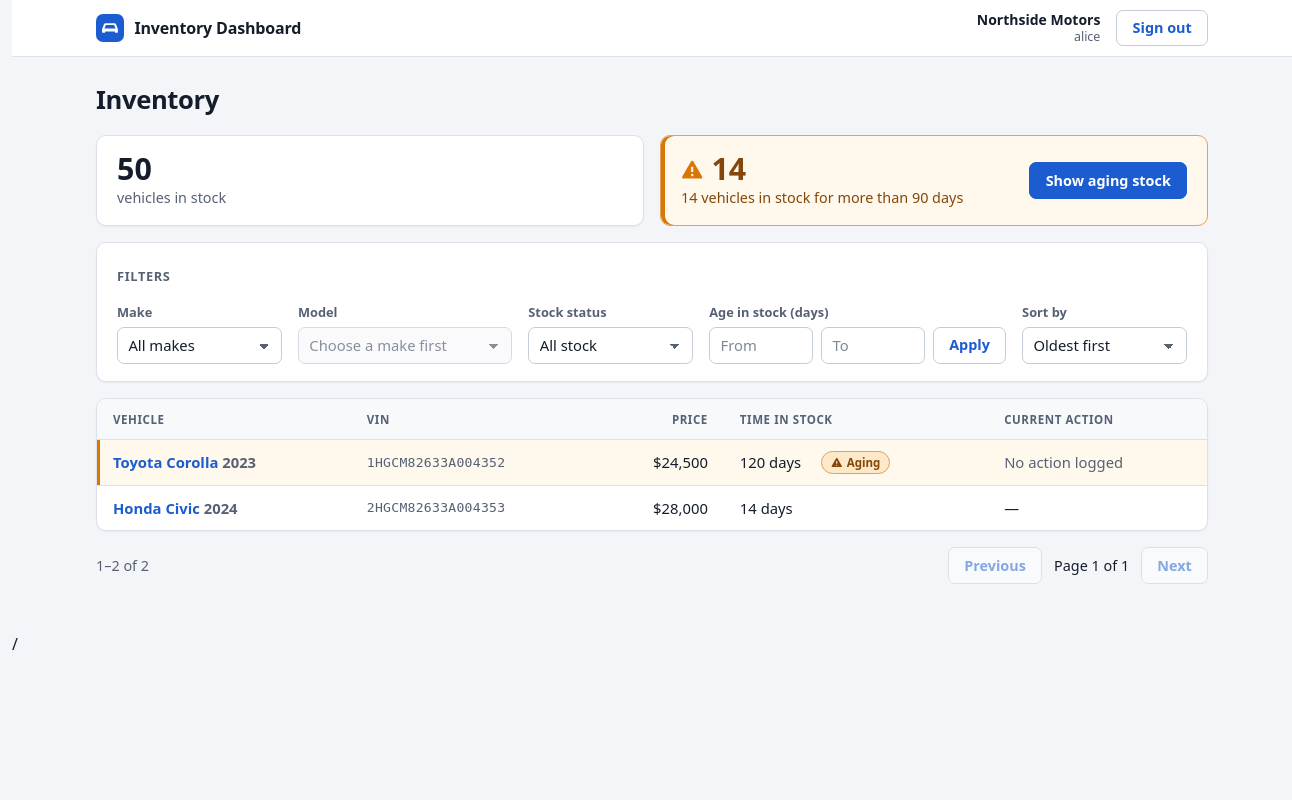
Test: the aging summary › filters to aging stock from the summary
Click the button "Show aging stock".
click(1108, 181)  # box left=1029, top=162, right=1187, bottom=199
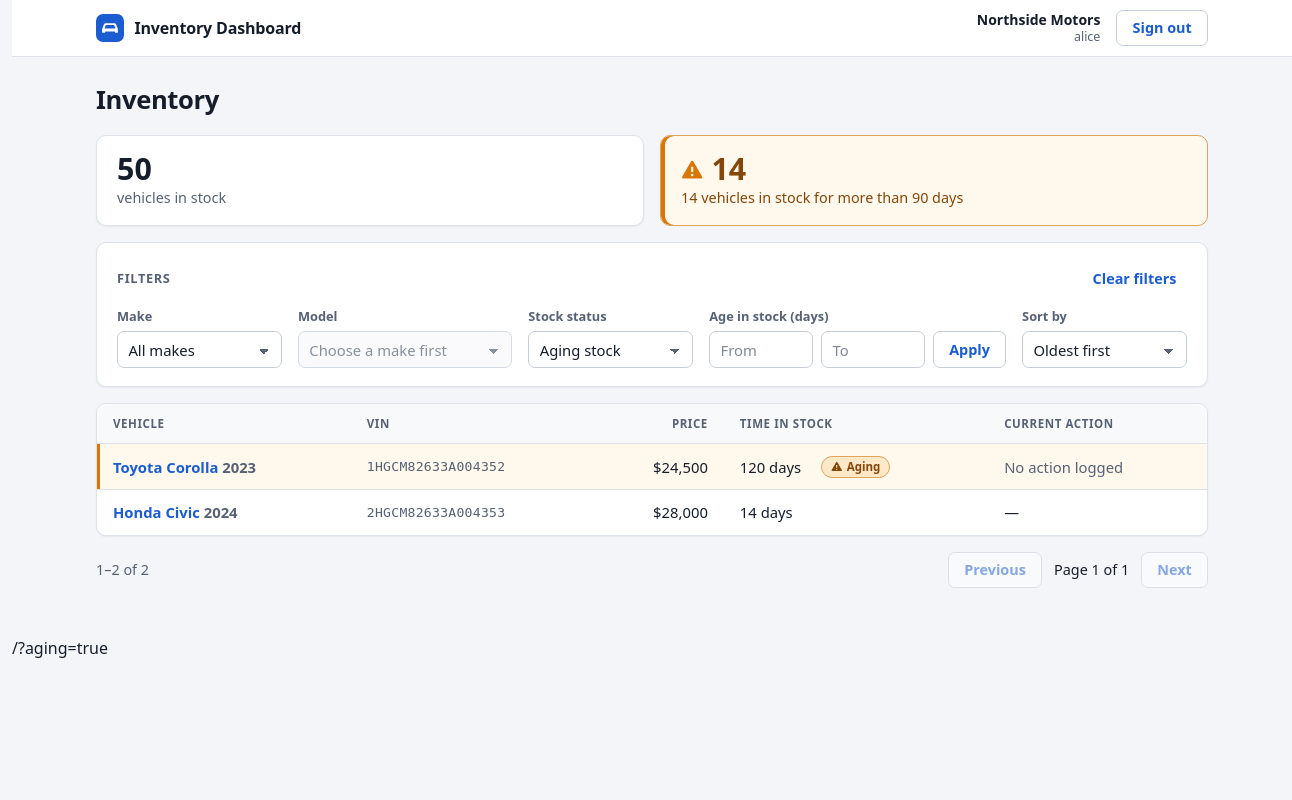
Expected: the link "Toyota Corolla" is shown, left=113, top=457, right=218, bottom=477
Now the text with test id "location" shows "aging=true", box left=12, top=637, right=108, bottom=659
Now the button "Show aging stock" is gone
